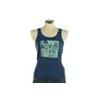canottiera: (36, 28, 64, 78)
